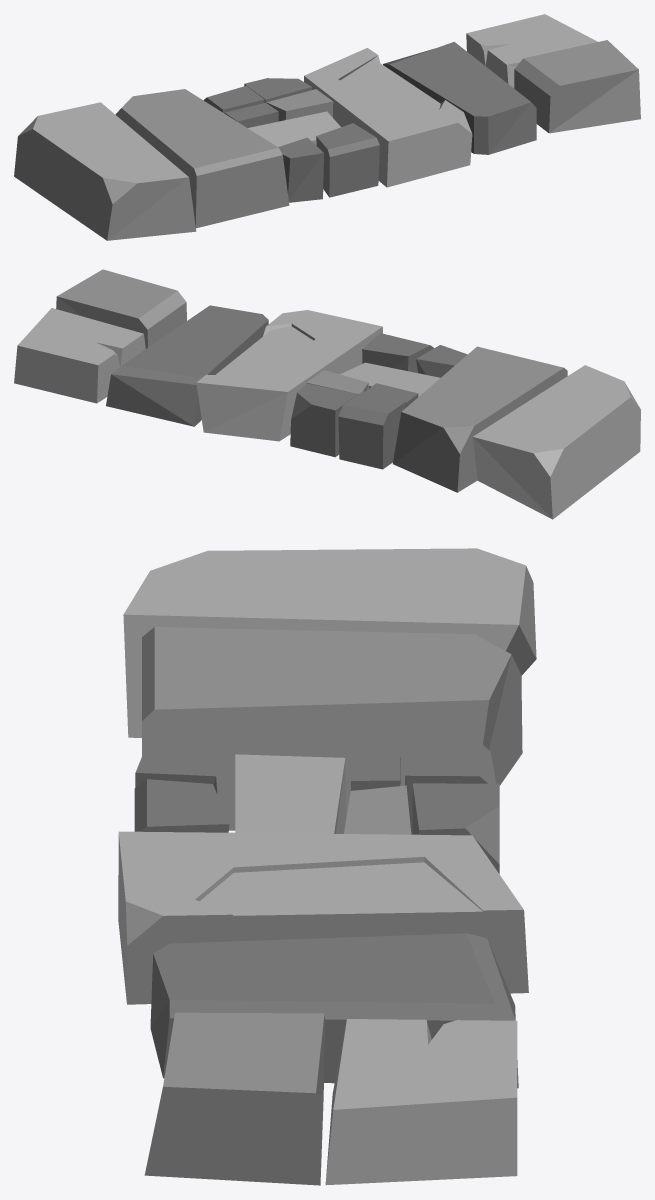
Rendered from EA03_Environment_Road_Cobble_01a.glb.
3 renders of one model, top to bottom at view 1: azimuth 30°, elevation 25°; view 2: azimuth 150°, elevation 25°; view 3: azimuth 270°, elevation 25°, orthographic. The views are drawn at different scales.
Visible parts, largest first — view 1: EA03_Environment_Road_Cobble_01a; view 2: EA03_Environment_Road_Cobble_01a; view 3: EA03_Environment_Road_Cobble_01a.
Part boxes in pixels (x1,y1,x2,y2): EA03_Environment_Road_Cobble_01a: (14, 14, 640, 240); EA03_Environment_Road_Cobble_01a: (14, 269, 640, 519); EA03_Environment_Road_Cobble_01a: (118, 548, 536, 1185).
Size of the model in its own units: 5.24 by 0.5544 by 1.76.
Materials: 1 (1 with a texture image).
